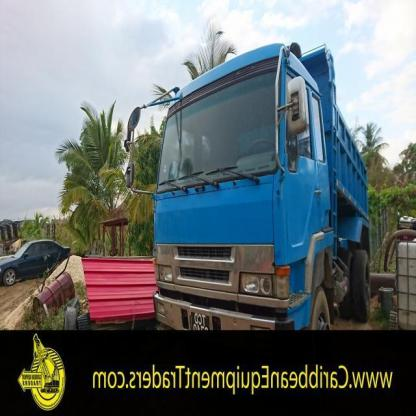truck: (158, 43, 376, 333)
